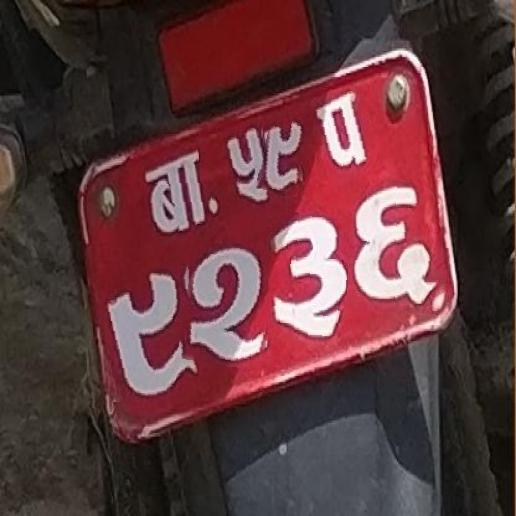2: (182, 243, 276, 369)
3: (266, 212, 353, 345)
5: (218, 121, 269, 215)
6: (349, 178, 443, 313)
9: (101, 266, 198, 400), (259, 112, 310, 196)
ba: (141, 146, 213, 241)
pa: (311, 88, 370, 180)
